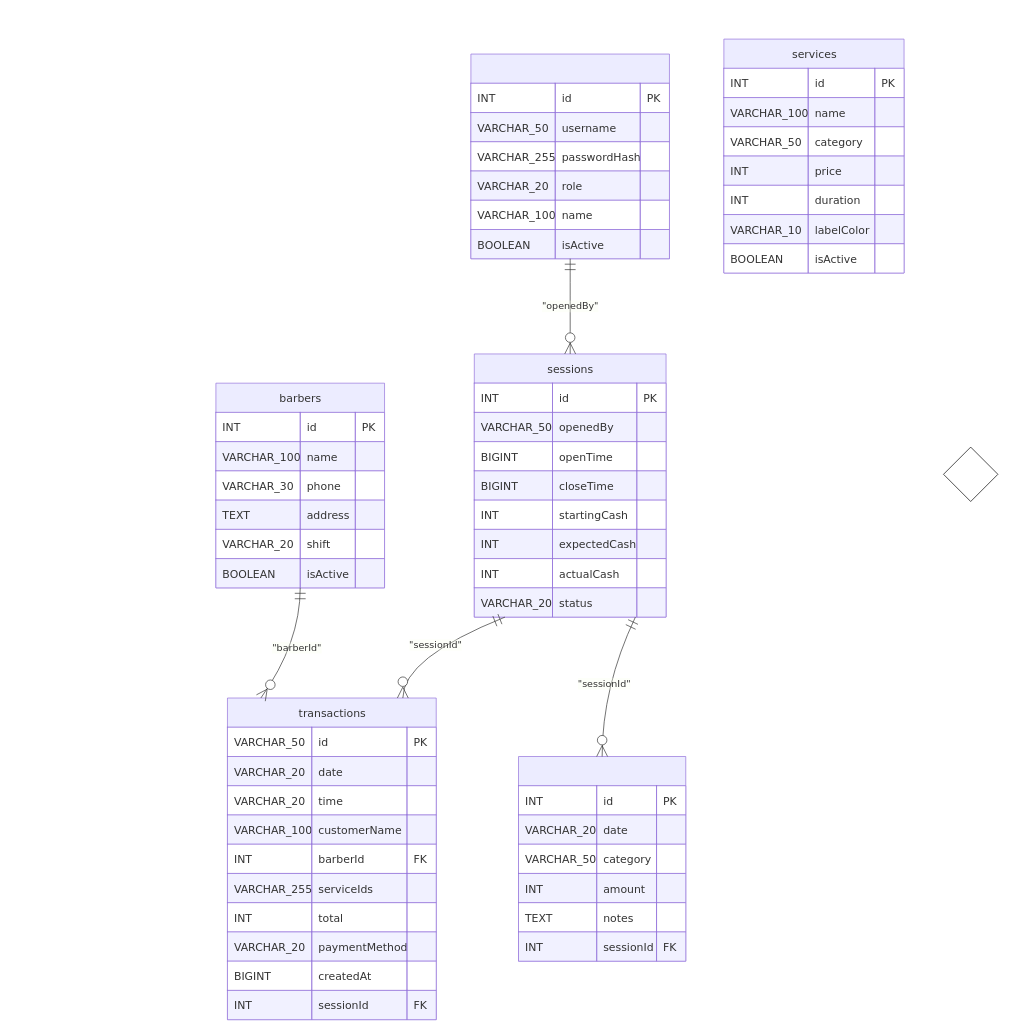
Image size: 1010x1032. Some labels were removed from this diagram. The shapes that lost their labels are listed below. From the top down, each one's box as (x1, y1, x2, y2) in pixels, then its label:
(470, 53, 669, 259): users
(518, 756, 686, 961): expenses
